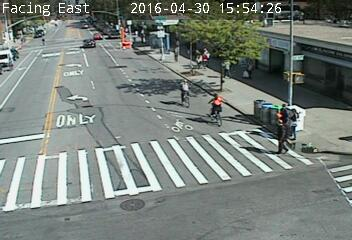neg: (42, 77, 76, 122), (79, 124, 112, 168), (159, 142, 190, 183), (145, 28, 175, 68), (72, 29, 102, 69), (206, 92, 230, 123), (284, 52, 307, 82), (171, 78, 194, 107), (26, 27, 47, 54), (129, 70, 149, 96), (113, 27, 132, 53), (121, 190, 135, 210), (175, 117, 186, 131)
pos: (268, 122, 295, 158), (288, 109, 305, 132), (200, 45, 216, 66), (189, 50, 203, 68), (245, 60, 258, 78), (222, 58, 235, 76), (278, 102, 290, 119)
